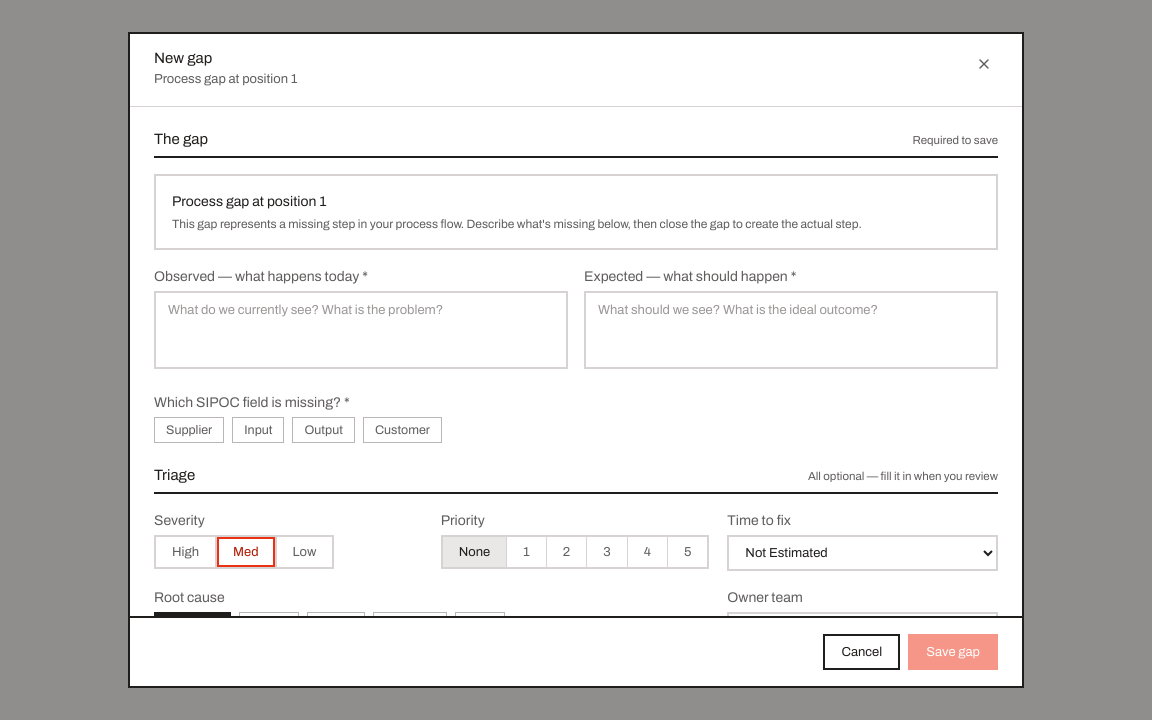
Scenario: GapForm process-gap order conflicts are milestone-scoped (#311) › still reports a conflict inside the gap's own milestone
The width and height of the screenshot is (1152, 720).
Click the radio button labelled "supplier".
click(189, 430)  # box [154,417,224,443]
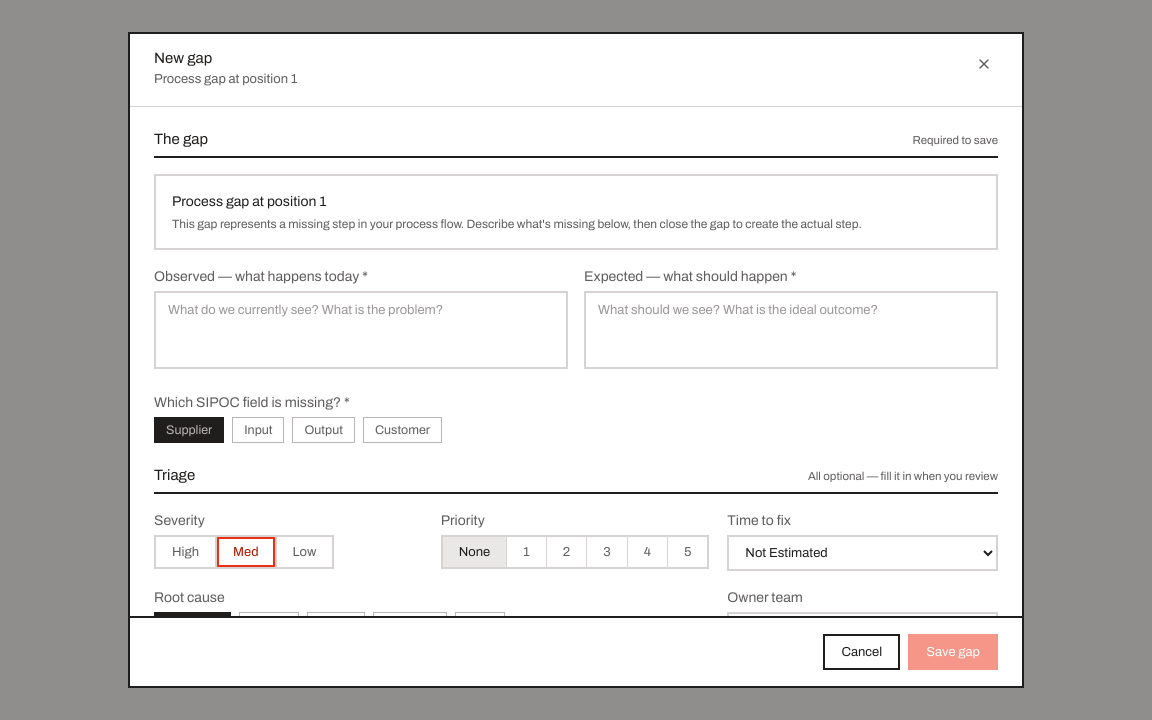
Type "Missing a step here" into the text box with placeholder "What do we currently see? What is the problem?".
click(361, 330); type("Missing a step here")  # box [154,290,568,369]
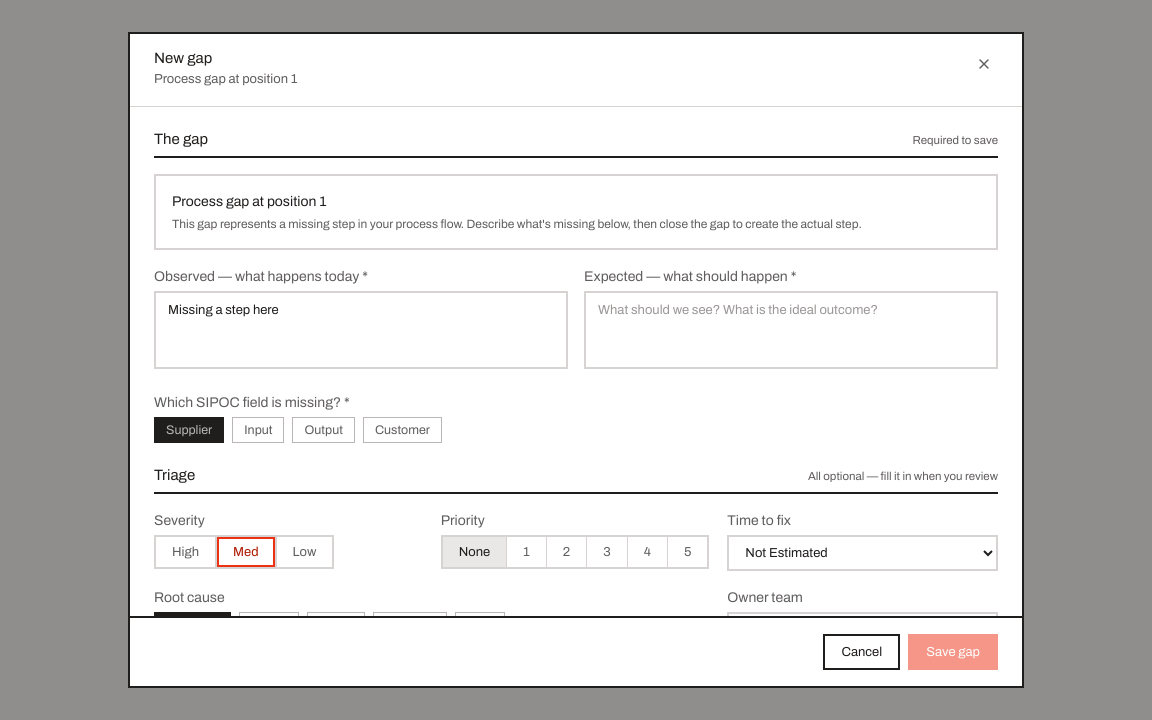
Type "The step is documented" into the text box with placeholder "What should we see? What is the ideal outcome?".
click(791, 330); type("The step is documented")  # box [584,290,998,369]
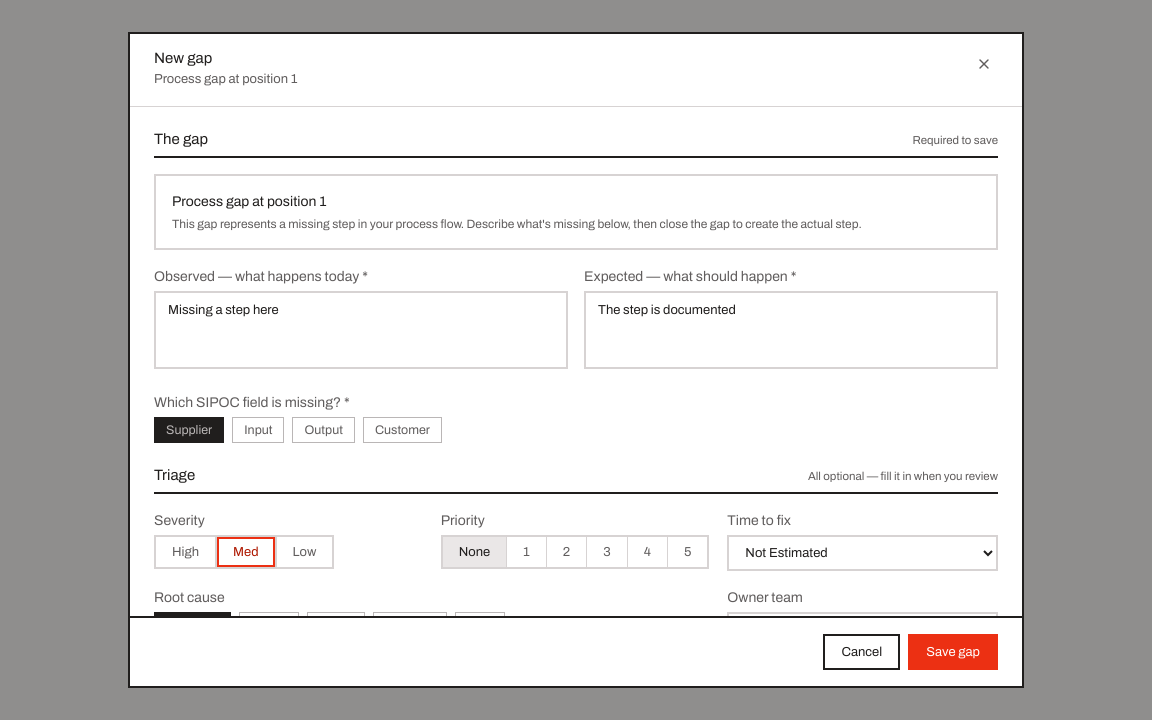
Click the button "Save gap".
click(953, 652)  # box [908,634,998,670]
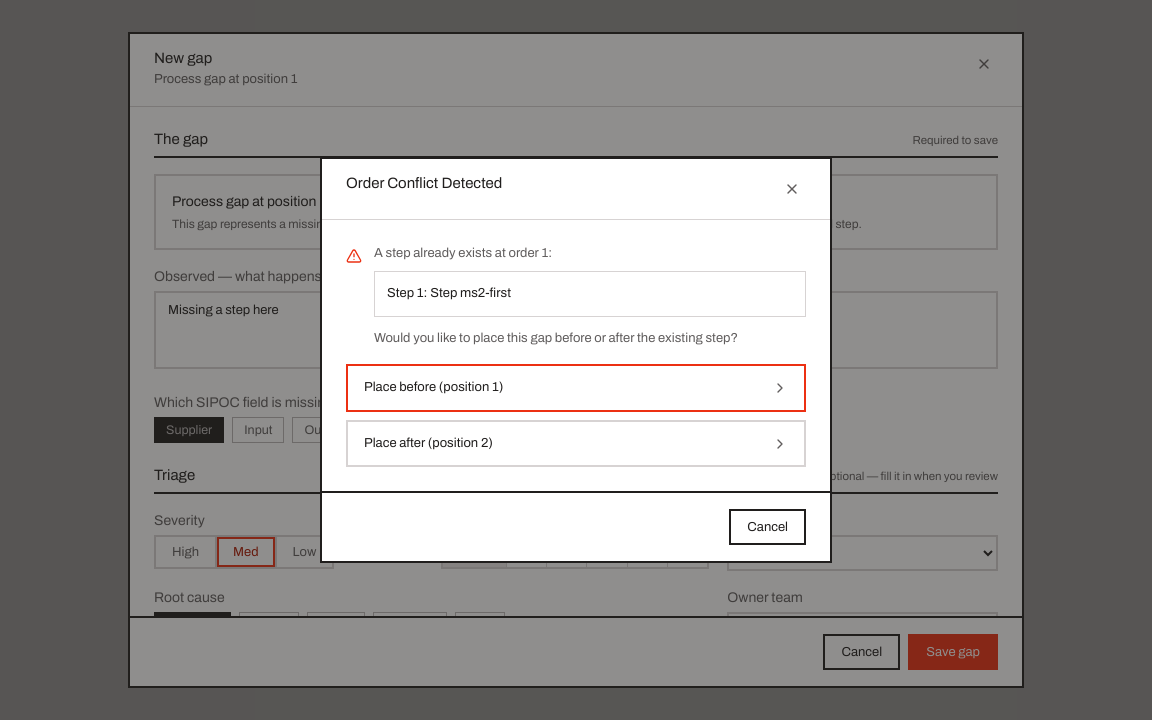
Expected: the heading "Order Conflict Detected" is shown, [346,175,502,191]
Expected: the text "Step 1: Step ms2-first" is shown, [374,271,806,317]
